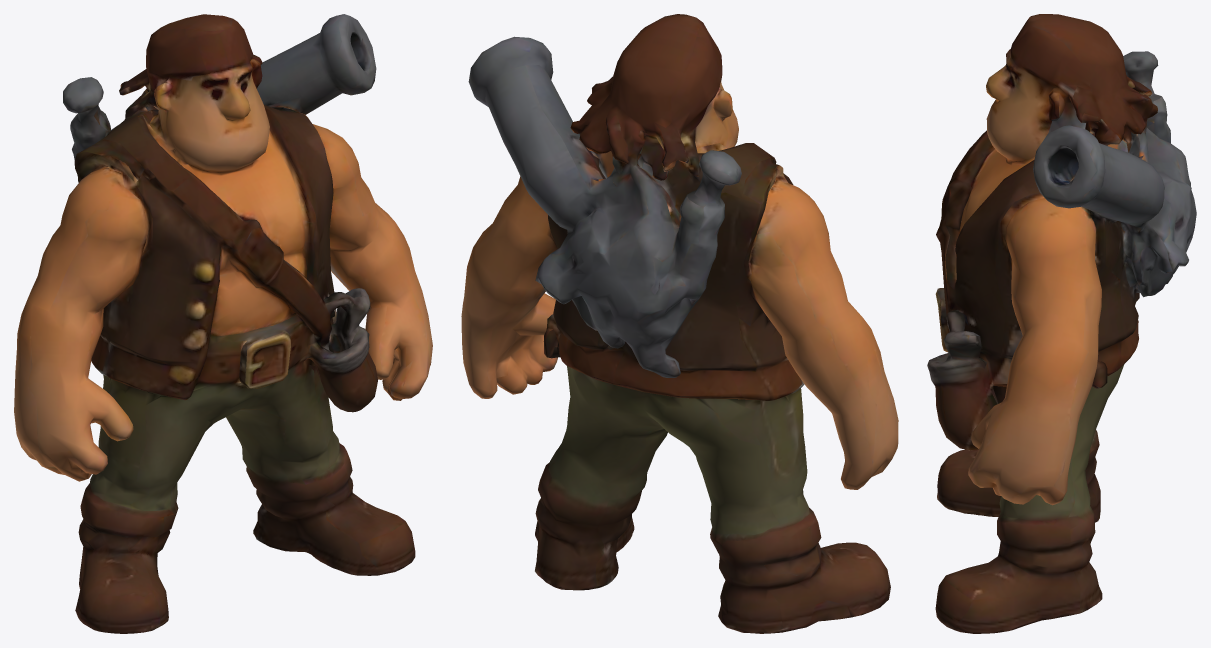
File: char_buccaneer_gunner.glb
3 renders of one model, left to right at view 1: azimuth 30°, elevation 25°; view 2: azimuth 150°, elevation 25°; view 3: azimuth 270°, elevation 25°, orthographic. The views are drawn at different scales.
Parts seen in each view (by area): view 1: geometry_0; view 2: geometry_0; view 3: geometry_0.
Boxes of the visible parts, x1=… form: geometry_0: x1=14, y1=14, x2=432, y2=633; geometry_0: x1=461, y1=14, x2=898, y2=633; geometry_0: x1=927, y1=14, x2=1196, y2=633.
Bounding box in the file's own units: 1.52 × 1.97 × 0.8928.
Materials: 1 (1 with a texture image).
